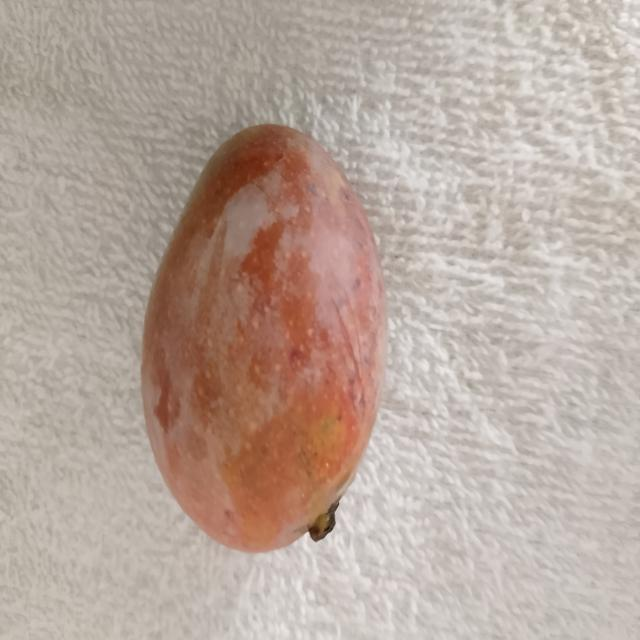mango: (140, 121, 391, 554)
